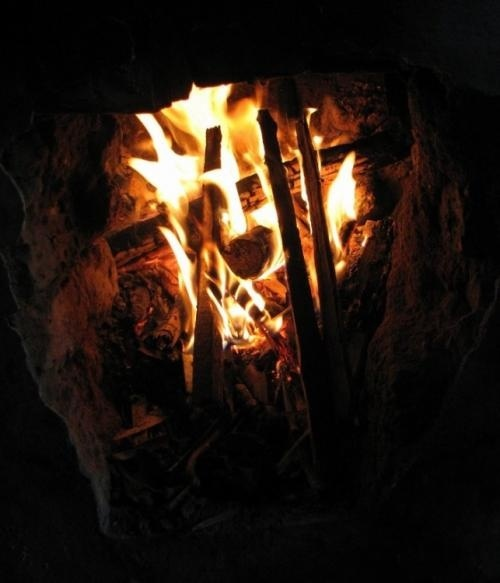fire: (121, 84, 372, 351)
